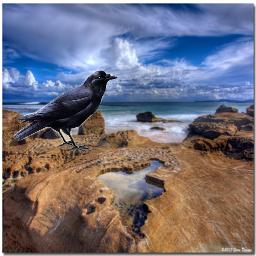Crow: (13, 70, 118, 153)
